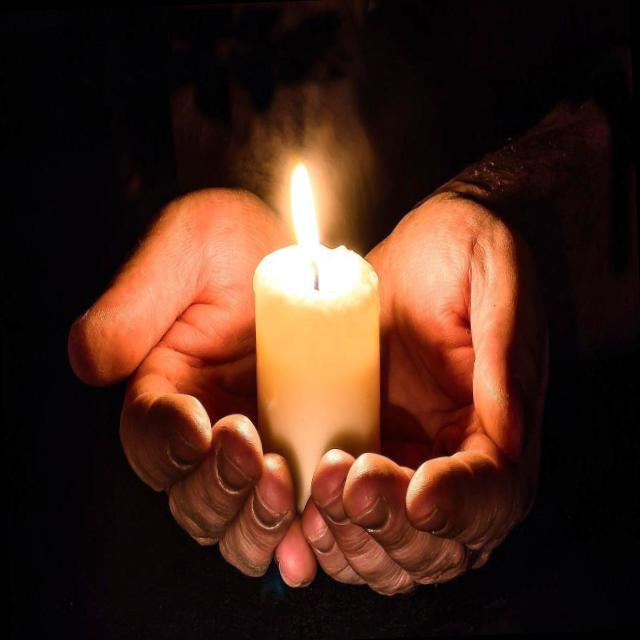Fire_Save: (246, 157, 387, 516)
